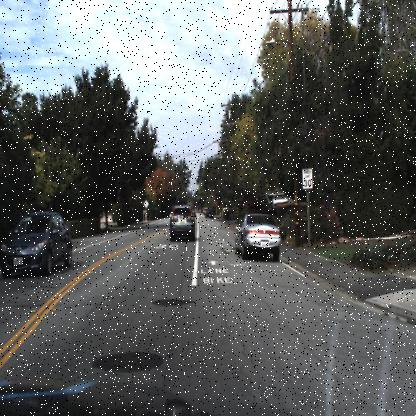car: (0, 211, 74, 280), (232, 208, 282, 262), (236, 186, 281, 216), (166, 202, 196, 242), (202, 207, 216, 224)
